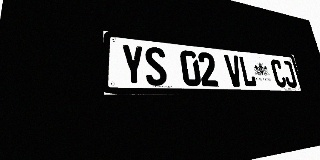0: (179, 50, 202, 86)
2: (197, 52, 219, 86)
C: (270, 59, 287, 87)
J: (281, 60, 298, 88)
L: (238, 56, 257, 87)
S: (144, 46, 168, 86)
V: (224, 54, 244, 87)
Y: (120, 44, 146, 86)
